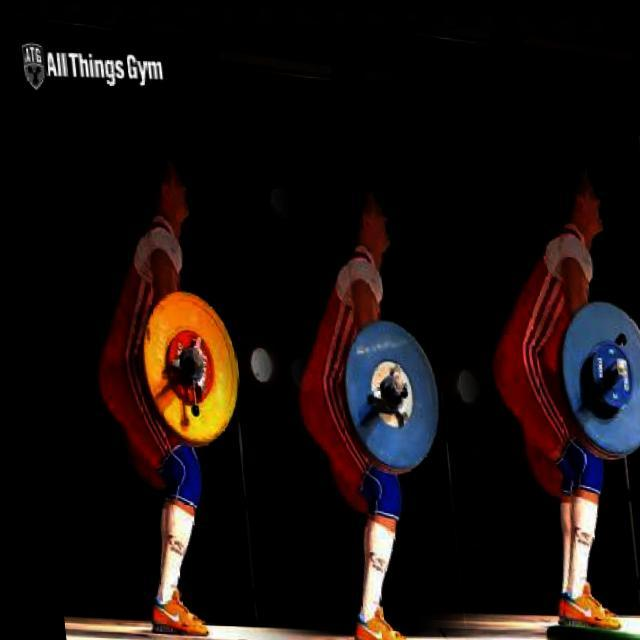barbell: (125, 286, 242, 454), (328, 312, 444, 476), (546, 294, 640, 455)
